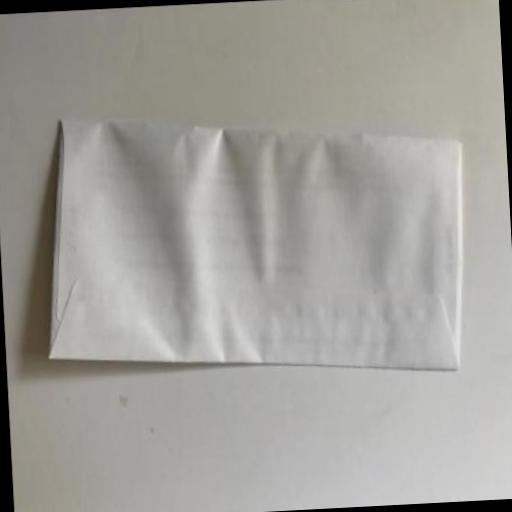paper: (38, 98, 475, 392)
